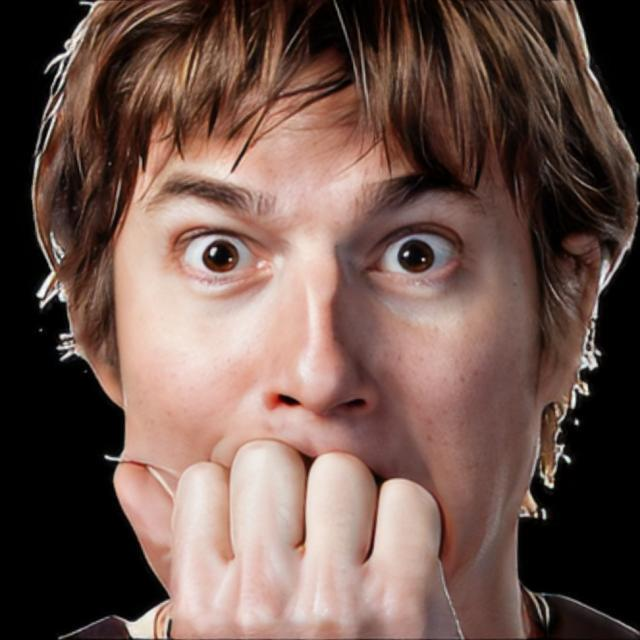fear: (115, 58, 544, 638)
